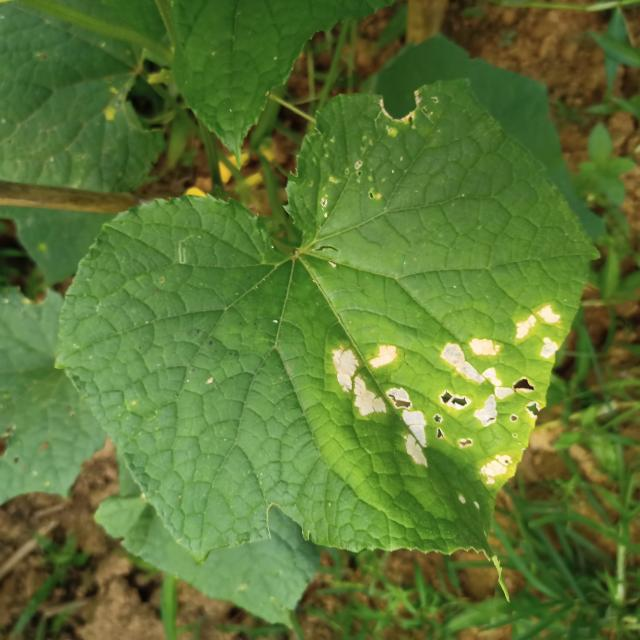disease_cucumber: (320, 304, 586, 525)
